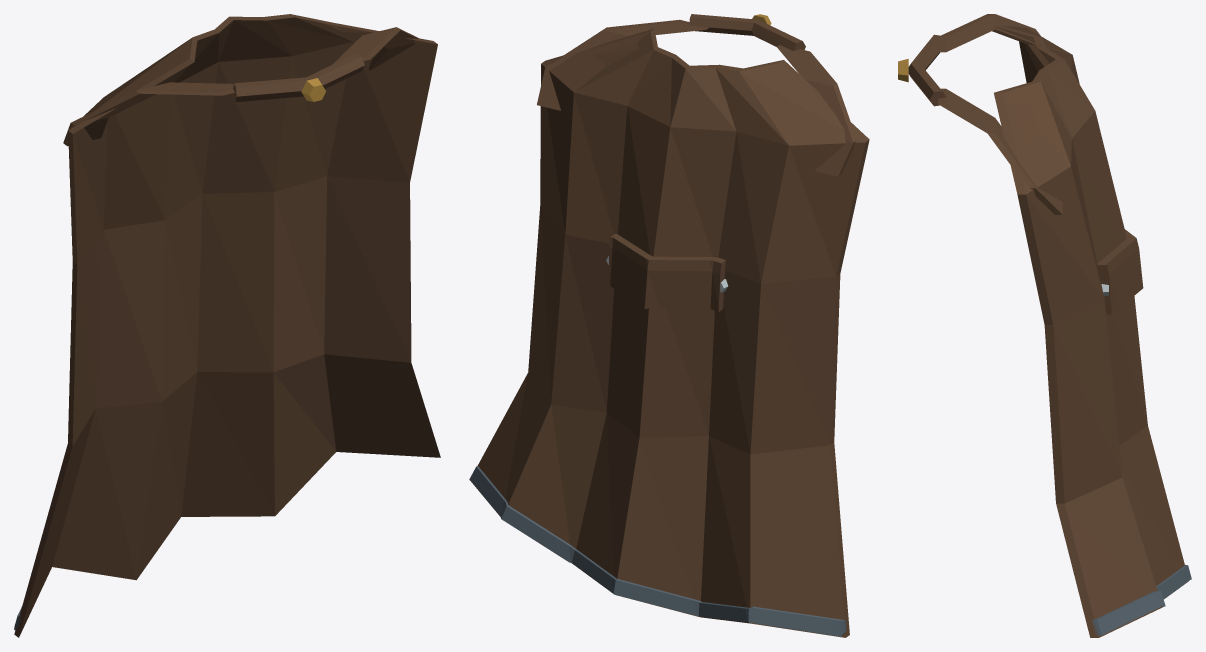
File: studded_back-male-thickHide.glb
3 views of the same model, side by side, from view 1: azimuth 30°, elevation 25°; view 2: azimuth 150°, elevation 25°; view 3: azimuth 270°, elevation 25° (orthographic). The views are drawn at different scales.
Visible parts, largest first — view 1: studded draped back mantle, Mantle neck fastening, Mantle shoulder fall -1, Mantle shoulder fall 1; view 2: studded draped back mantle, Mantle weighted bound hem, Heavy hide binding studded draped back mantle, Mantle shoulder fall -1, Mantle shoulder fall 1, Mantle neck fastening; view 3: studded draped back mantle, Heavy hide binding studded draped back mantle, Mantle shoulder fall 1, Mantle weighted bound hem, Mantle shoulder fall -1, Mantle neck fastening.
Part boxes in pixels (box(x1,y1,x2,y2)): studded draped back mantle: box(14, 14, 440, 637); Mantle neck fastening: box(233, 54, 364, 101); Mantle shoulder fall -1: box(63, 82, 234, 146); Mantle shoulder fall 1: box(332, 27, 418, 70); studded draped back mantle: box(470, 28, 869, 637); Mantle weighted bound hem: box(469, 465, 846, 636); Heavy hide binding studded draped back mantle: box(608, 233, 725, 312); Mantle shoulder fall -1: box(777, 45, 856, 176); Mantle shoulder fall 1: box(537, 19, 708, 110); Mantle neck fastening: box(689, 14, 805, 51); studded draped back mantle: box(993, 26, 1188, 637); Heavy hide binding studded draped back mantle: box(1097, 229, 1143, 314); Mantle shoulder fall 1: box(938, 88, 1062, 214); Mantle weighted bound hem: box(1092, 564, 1191, 635); Mantle shoulder fall -1: box(940, 14, 1048, 66); Mantle neck fastening: box(908, 34, 946, 106).
Bounding box in the file's own units: 2.62 × 3.44 × 1.67.
